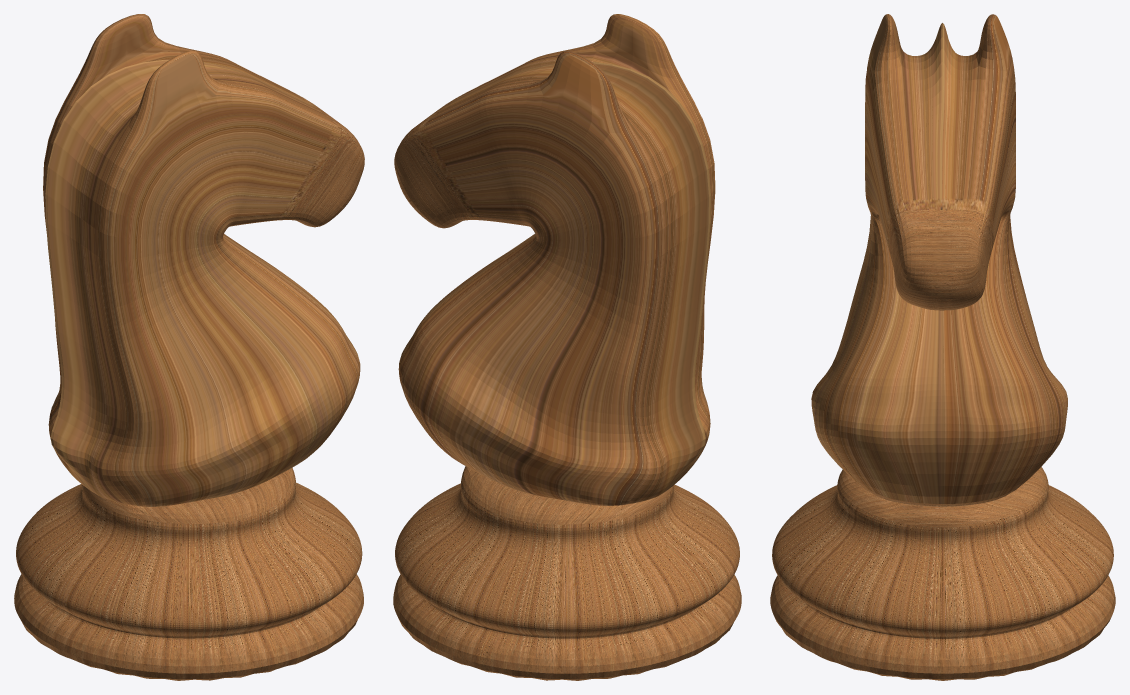
Rendered from Knight.gltf.
3 views of the same model, side by side, from view 1: azimuth 30°, elevation 25°; view 2: azimuth 150°, elevation 25°; view 3: azimuth 270°, elevation 25° (orthographic).
Parts seen in each view (by area): view 1: BlackKnight.003; view 2: BlackKnight.003; view 3: BlackKnight.003.
Part boxes in pixels (x1=…): BlackKnight.003: x1=14, y1=14, x2=364, y2=680; BlackKnight.003: x1=393, y1=14, x2=741, y2=680; BlackKnight.003: x1=770, y1=14, x2=1115, y2=680.
Size of the model in its own units: 0.0378 by 0.0687 by 0.0364.
1 material, 1 textured.
